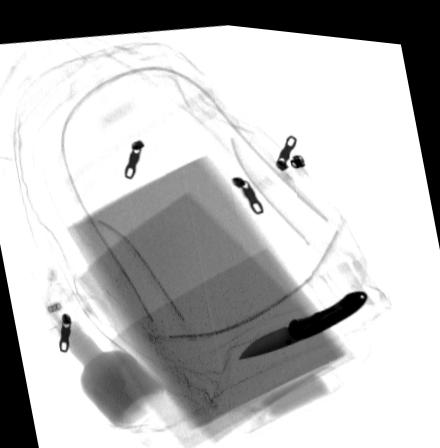Knife: (239, 279, 368, 353)
